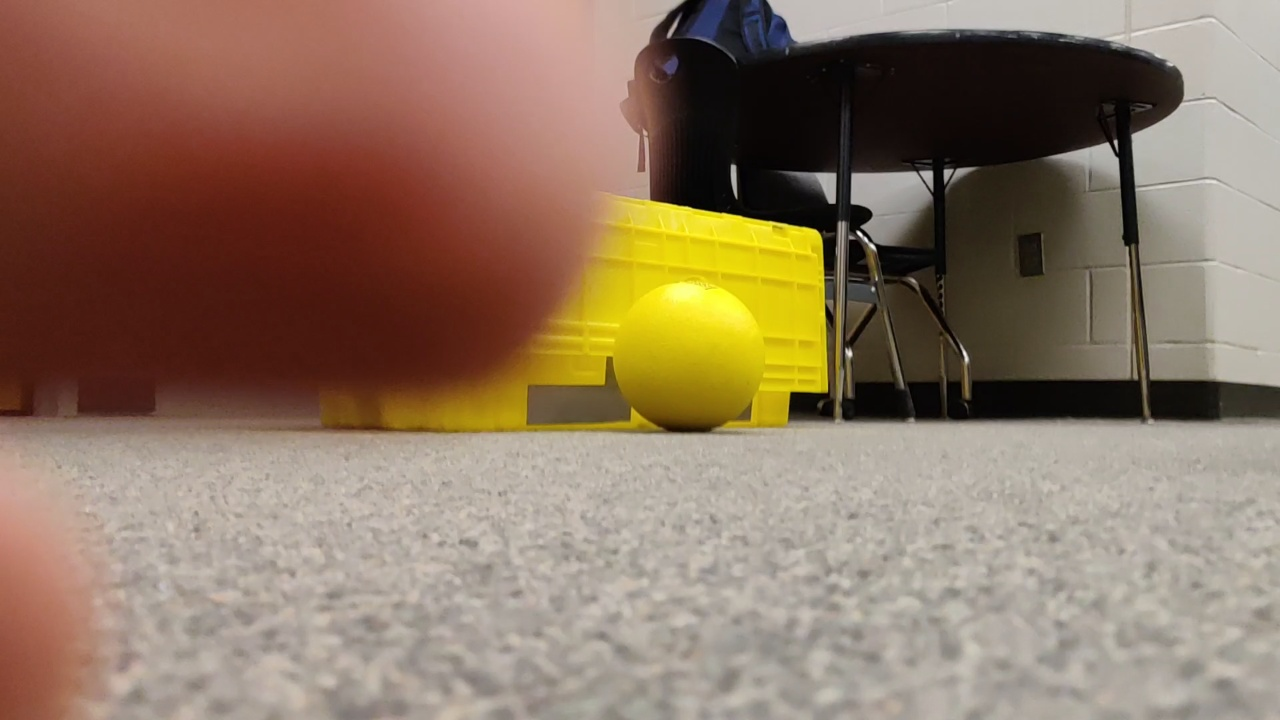Ball: (615, 278, 762, 434)
